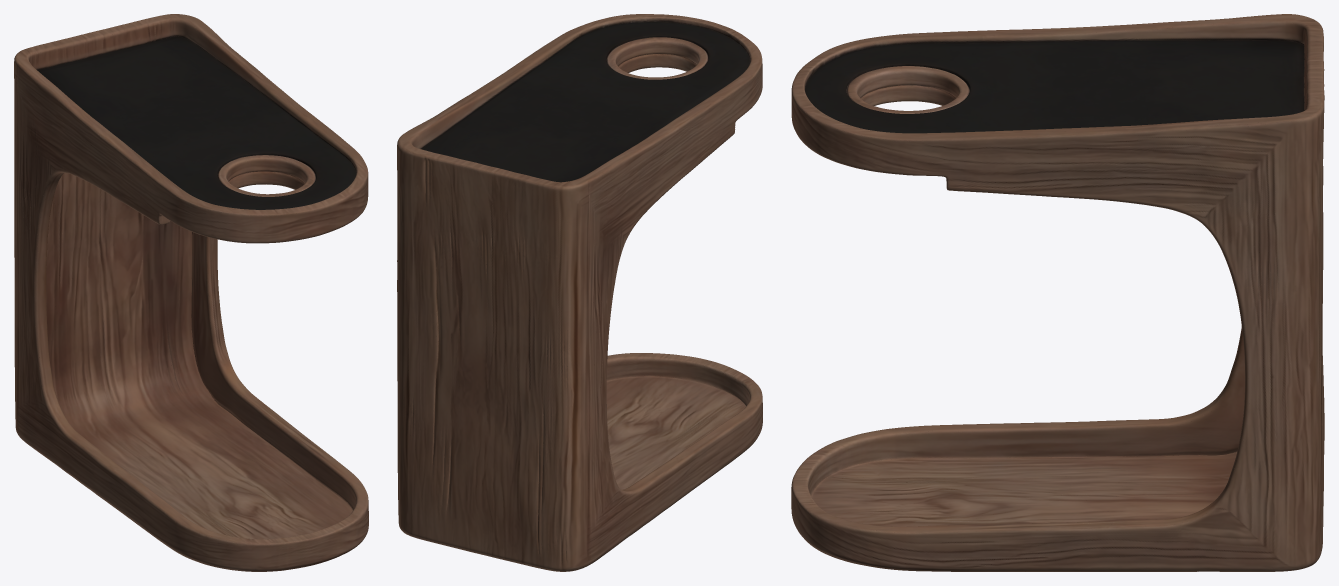
3 views of the same model, side by side, from view 1: azimuth 30°, elevation 25°; view 2: azimuth 150°, elevation 25°; view 3: azimuth 270°, elevation 25° (orthographic). The views are drawn at different scales.
Visible parts, largest first — view 1: vizcom_node_0; view 2: vizcom_node_0; view 3: vizcom_node_0.
Part boxes in pixels (left/top/right/bottom): vizcom_node_0: left=14, top=14, right=368, bottom=571; vizcom_node_0: left=397, top=14, right=762, bottom=571; vizcom_node_0: left=791, top=14, right=1324, bottom=571.
Bounding box in the file's own units: 0.9189 × 1.78 × 1.9.
Materials: 1 (1 with a texture image).
